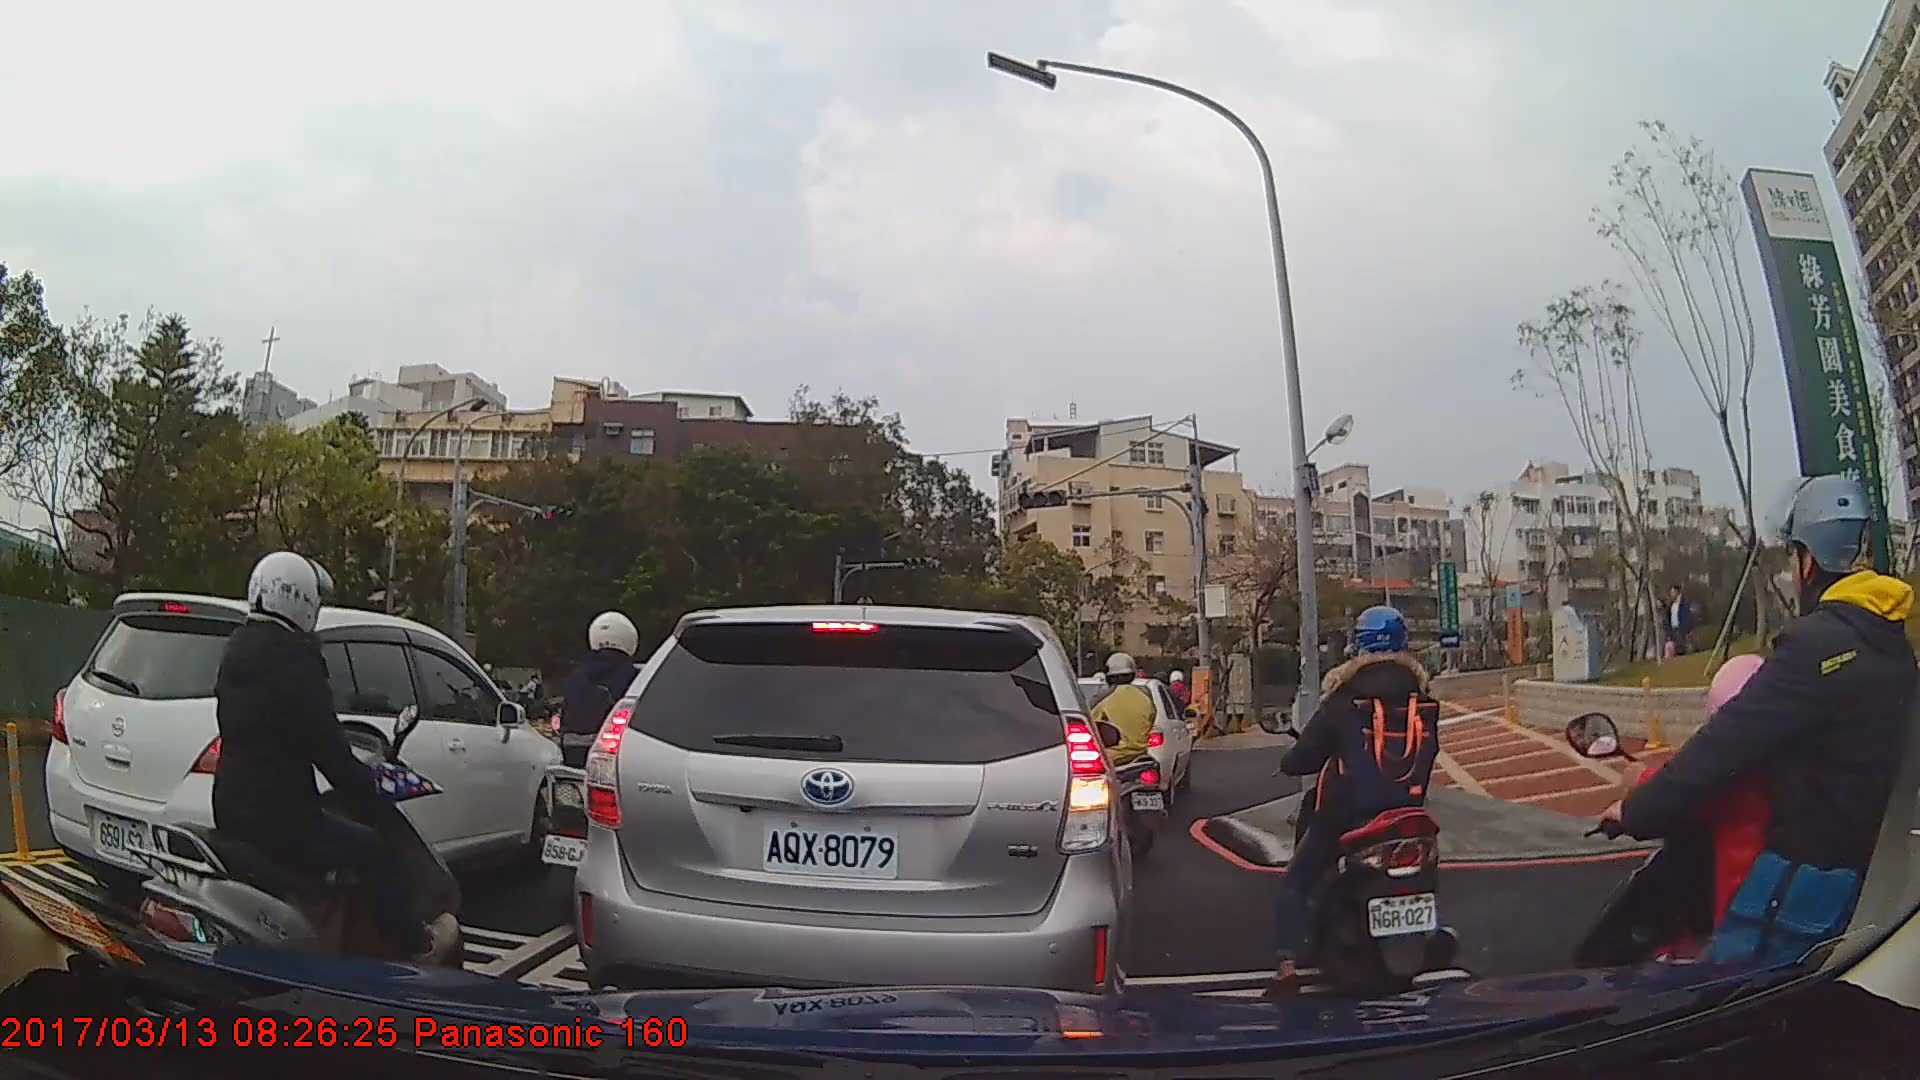pedestrian: (1654, 580, 1699, 665), (1638, 585, 1679, 677)
rider: (1560, 470, 1919, 1065), (140, 551, 470, 1000), (1252, 605, 1457, 1000), (539, 610, 694, 939), (1069, 649, 1171, 863)
vehicle: (570, 601, 1136, 1030), (44, 591, 570, 933)
